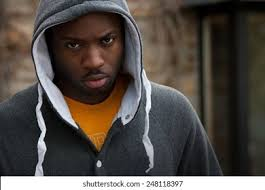s.black: (57, 51, 83, 75)
